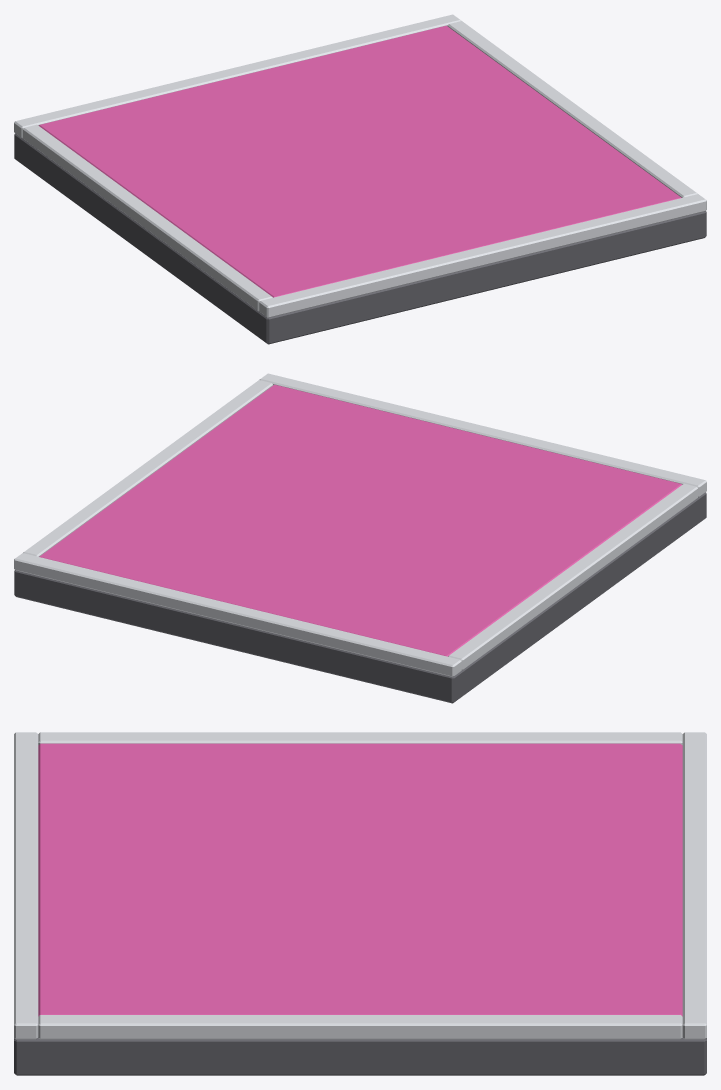
File: nightclub-and-dj-booth-led-floor-tile-module-f241f0a9__34111.glb
3 views of the same model, one above another, from view 1: azimuth 30°, elevation 25°; view 2: azimuth 150°, elevation 25°; view 3: azimuth 270°, elevation 25° (orthographic). The views are drawn at different scales.
Visible parts, largest first — view 1: led-floor-tile-module; view 2: led-floor-tile-module; view 3: led-floor-tile-module.
Part boxes in pixels (left/top/right/bottom): led-floor-tile-module: left=14, top=14, right=706, bottom=344; led-floor-tile-module: left=14, top=373, right=706, bottom=703; led-floor-tile-module: left=14, top=732, right=706, bottom=1075.
Bounding box in the file's own units: 1 × 0.084 × 1.
